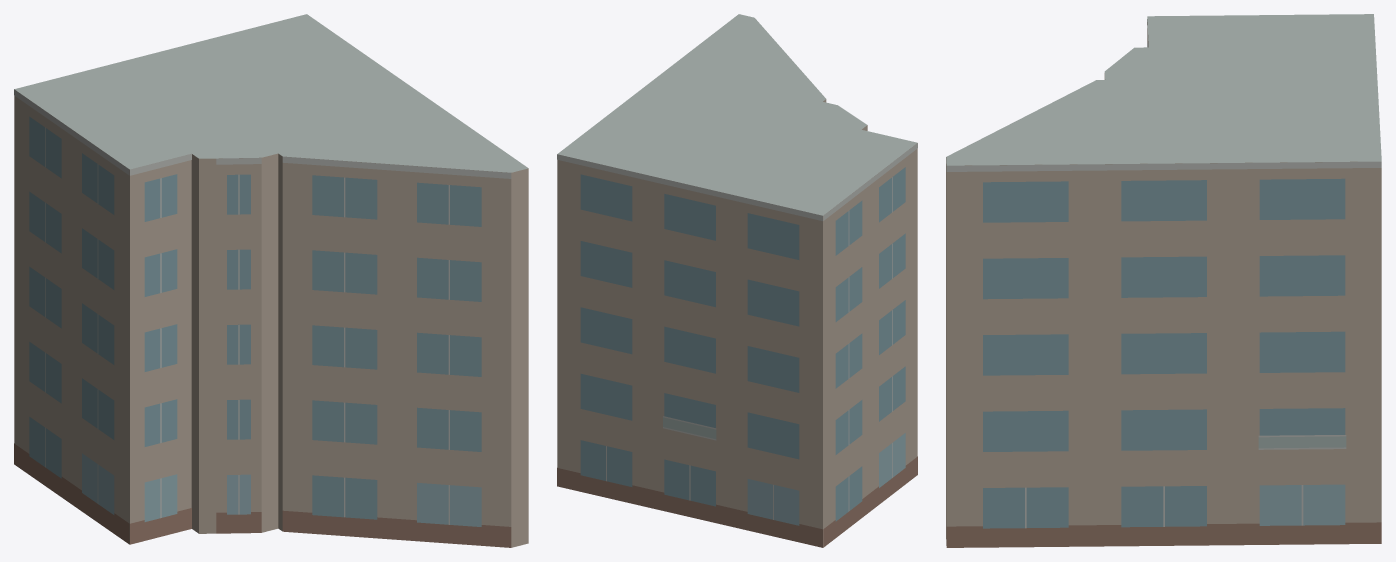
The model's file is survey-upis-32537448.glb.
3 views of the same model, side by side, from view 1: azimuth 30°, elevation 25°; view 2: azimuth 150°, elevation 25°; view 3: azimuth 270°, elevation 25° (orthographic). The views are drawn at different scales.
Visible parts, largest first — view 1: survey-upis-32537448.tmp; view 2: survey-upis-32537448.tmp; view 3: survey-upis-32537448.tmp.
Part boxes in pixels (x1,y1,x2,y2): survey-upis-32537448.tmp: (14,14,528,547); survey-upis-32537448.tmp: (557,14,917,547); survey-upis-32537448.tmp: (946,14,1381,547).
Bounding box in the file's own units: 12.43 × 14.6 × 15.09.
